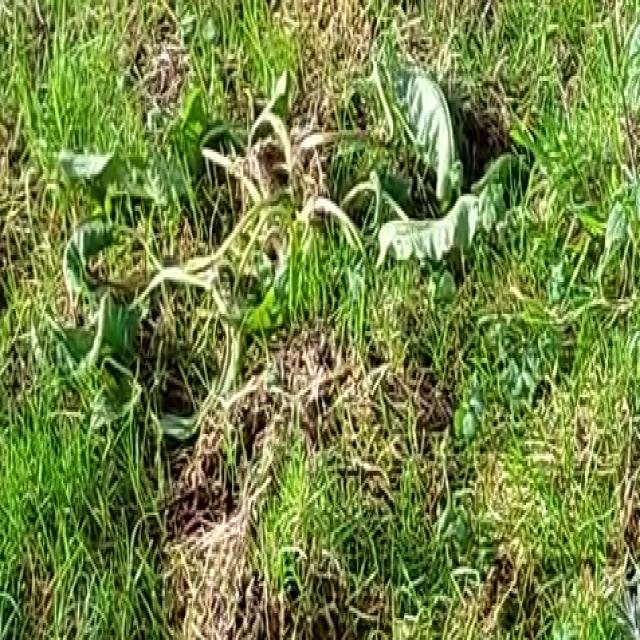organic waste: (52, 34, 542, 530)
